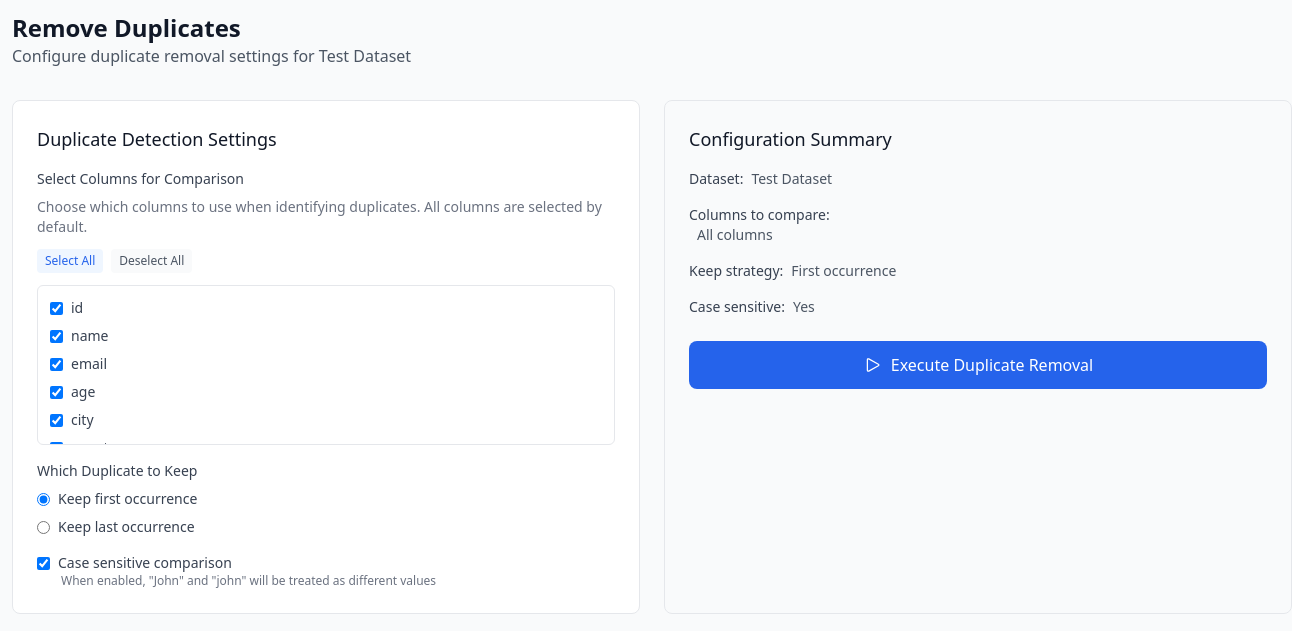
Test: RemoveDuplicates › updates configuration summary when columns are deselected
expect the text "All columns" is shown: met, box [697, 225, 773, 244]
# Deselect email column
Click the checkbox labelled "email" at (56, 364), box [50, 358, 63, 370]
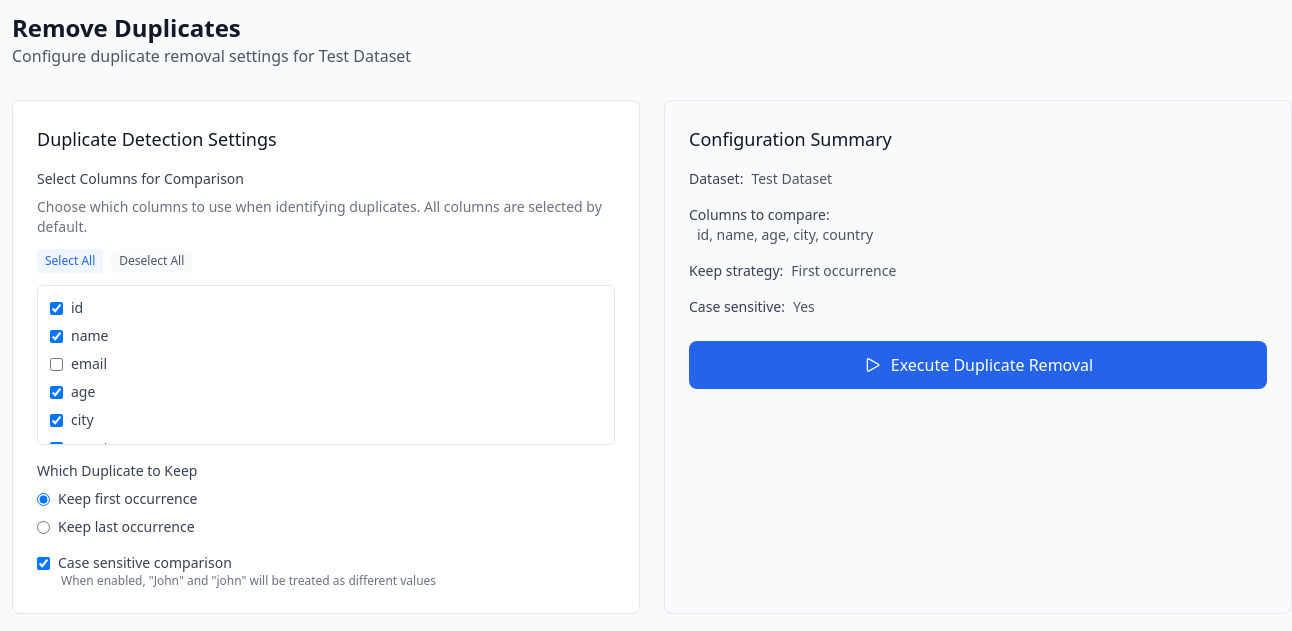
expect the text "Configuration Summary" does not show "All columns": met, box [664, 100, 1291, 614]
expect the text "Configuration Summary" shows "id, name, age, city, country": met, box [697, 225, 873, 244]
